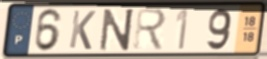1: (174, 7, 190, 52)
6: (33, 7, 63, 54)
9: (205, 7, 234, 52)
K: (67, 9, 98, 51)
N: (97, 7, 136, 53)
R: (131, 7, 168, 52)
